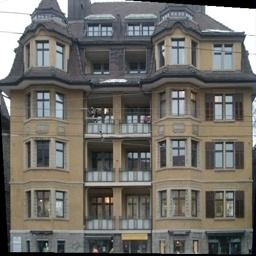building: (10, 3, 256, 256)
